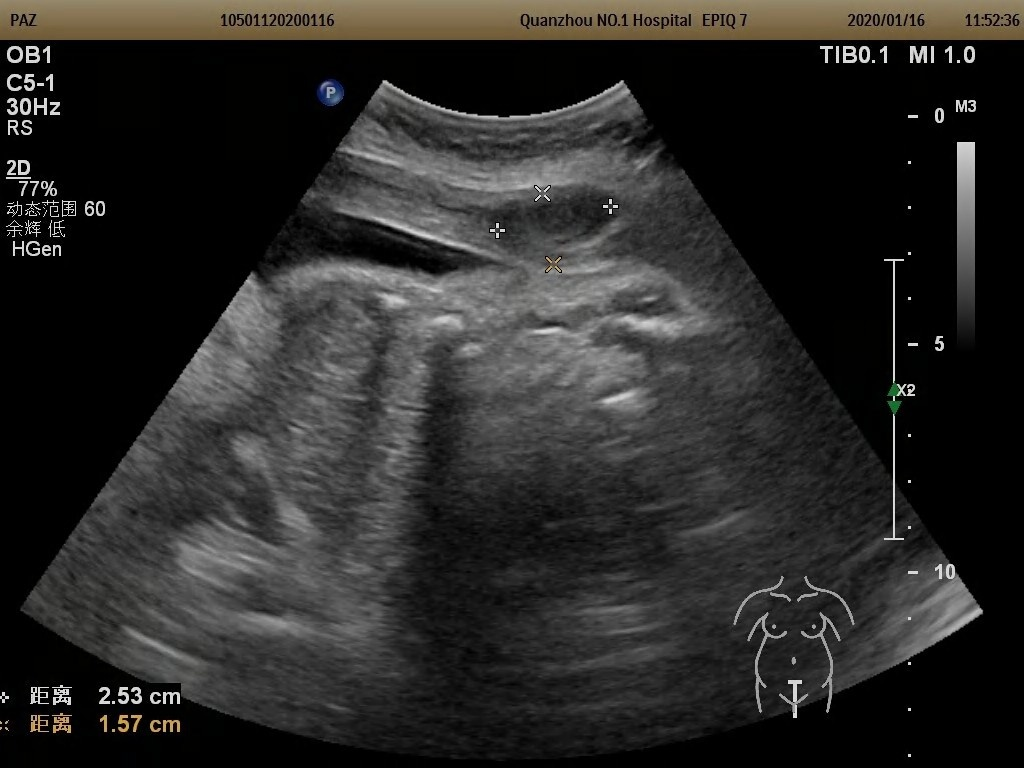肌瘤: (496, 195, 620, 244)
